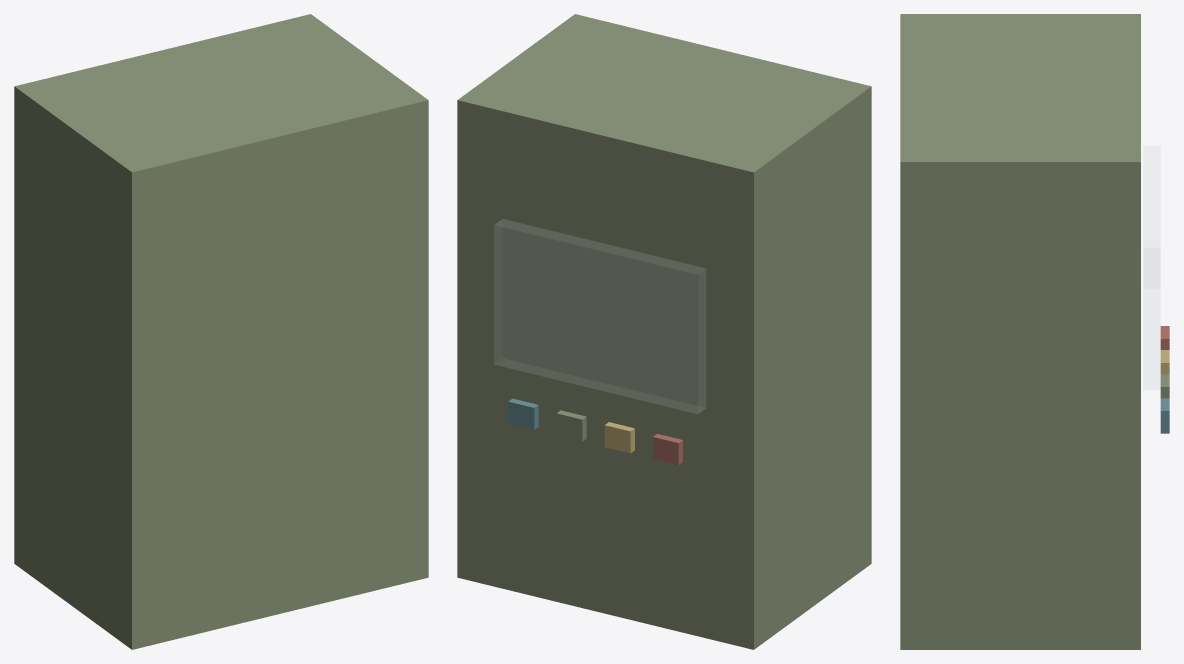
File: iz2_mission_antenna_tuner.glb
3 views of the same model, side by side, from view 1: azimuth 30°, elevation 25°; view 2: azimuth 150°, elevation 25°; view 3: azimuth 270°, elevation 25° (orthographic). The views are drawn at different scales.
Visible parts, largest first — view 1: body; view 2: body, screen; view 3: body, screen.
Part boxes in pixels (bbox=[...]): body: bbox=[14, 14, 428, 649]; body: bbox=[457, 14, 871, 649]; screen: bbox=[494, 219, 705, 413]; body: bbox=[900, 14, 1169, 649]; screen: bbox=[1143, 146, 1160, 389].
Bounding box in the file's own units: 0.8257 × 1.27 × 0.635.
